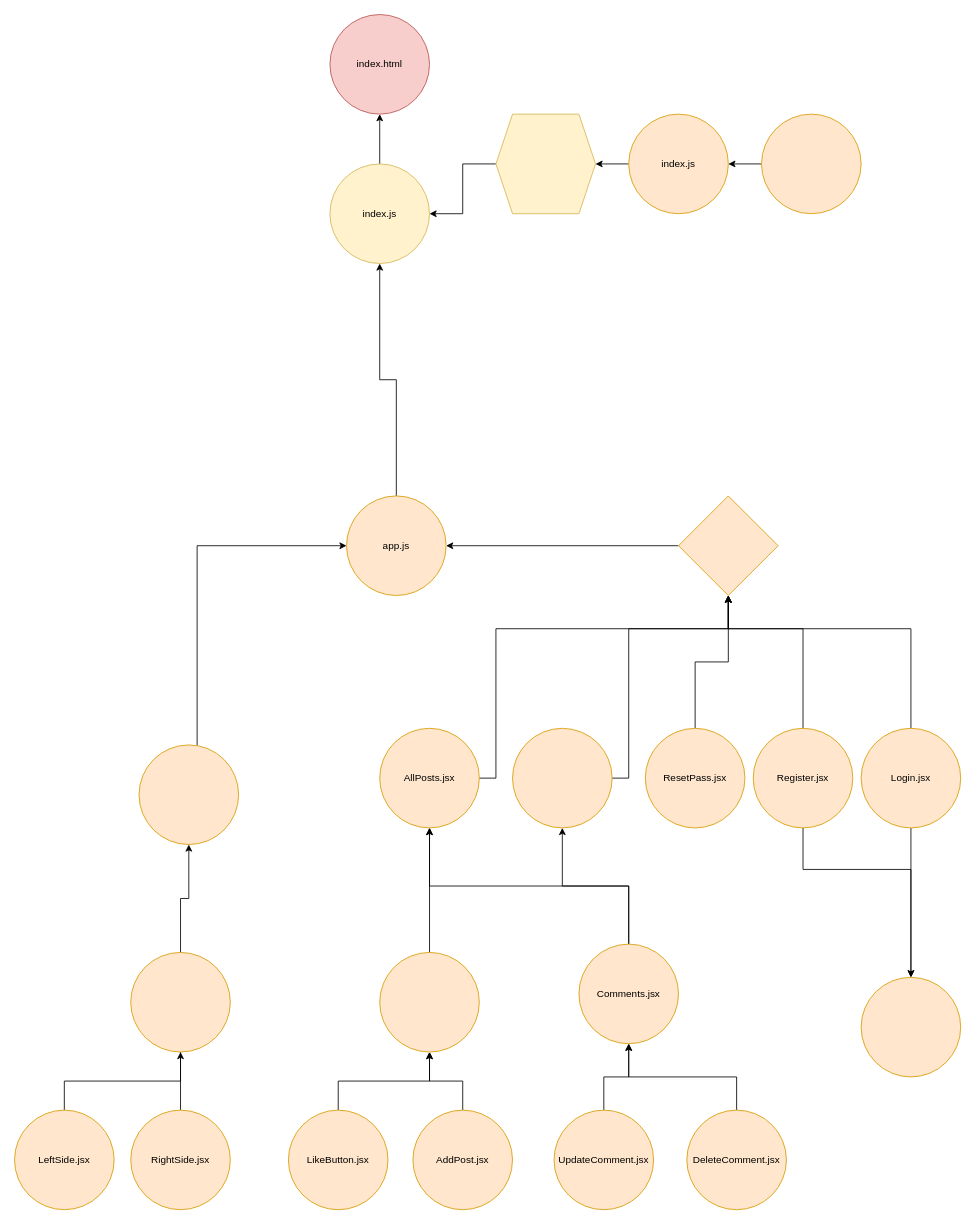
Some shapes in this 975 by 1224 pixel diagram are drawn without their labels. Each missing label, with the centre of its shape:
account.js: point (811, 163)
Header: point (188, 794)
index.jsx: point (180, 1002)
LogWithGoogle.jsx: point (910, 1026)
MyPosts.jsx: point (562, 777)
PostsCard.jsx: point (429, 1002)
reducers: point (545, 163)
Router: point (728, 545)
